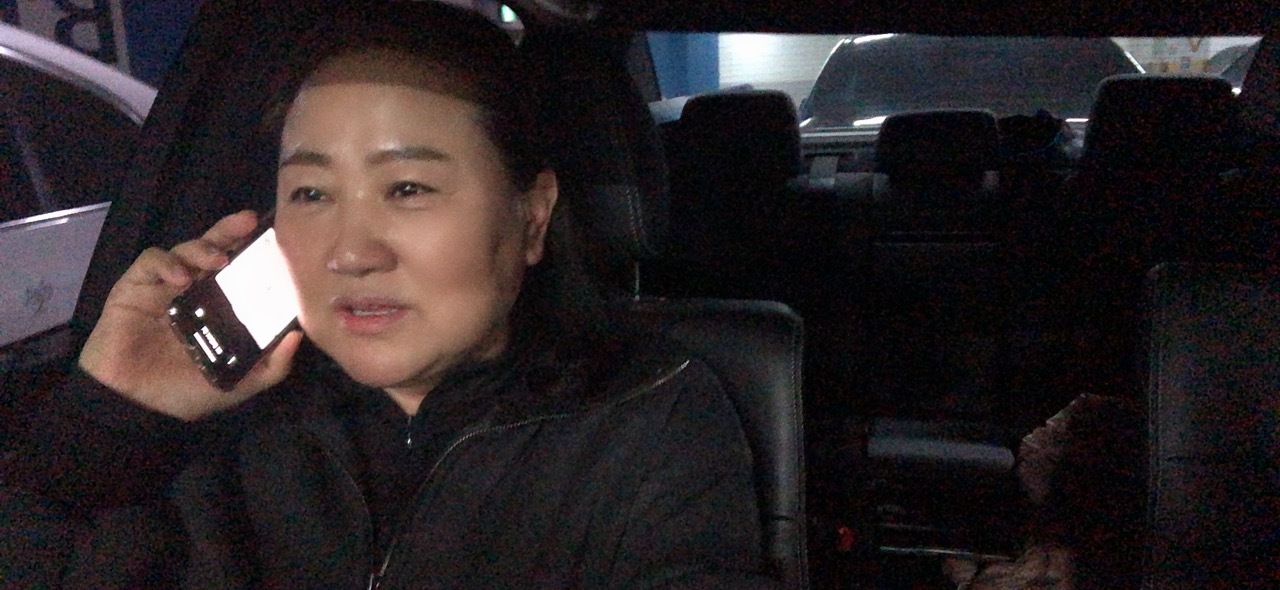phone: (24, 14, 787, 590)
